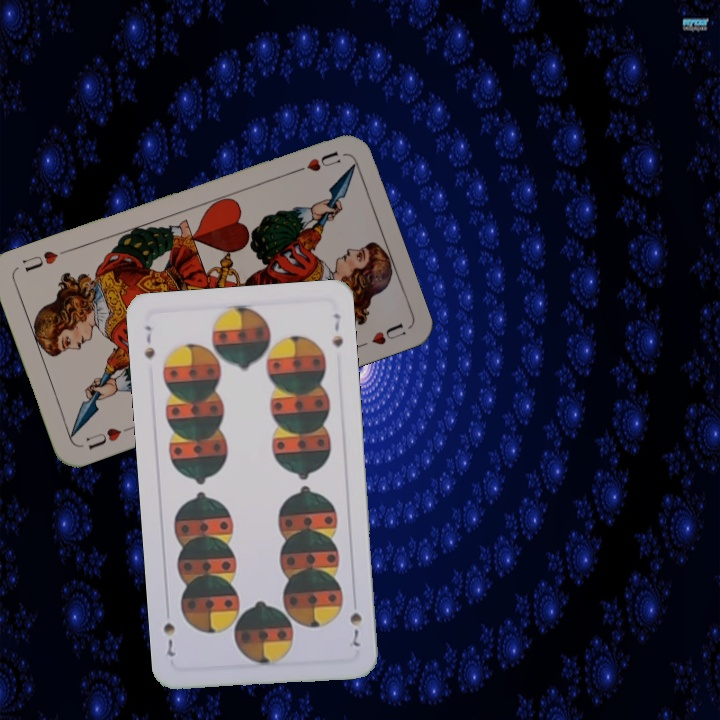HU: (288, 147, 344, 177), (81, 422, 135, 453)
S7: (345, 608, 365, 649), (140, 322, 158, 362)
